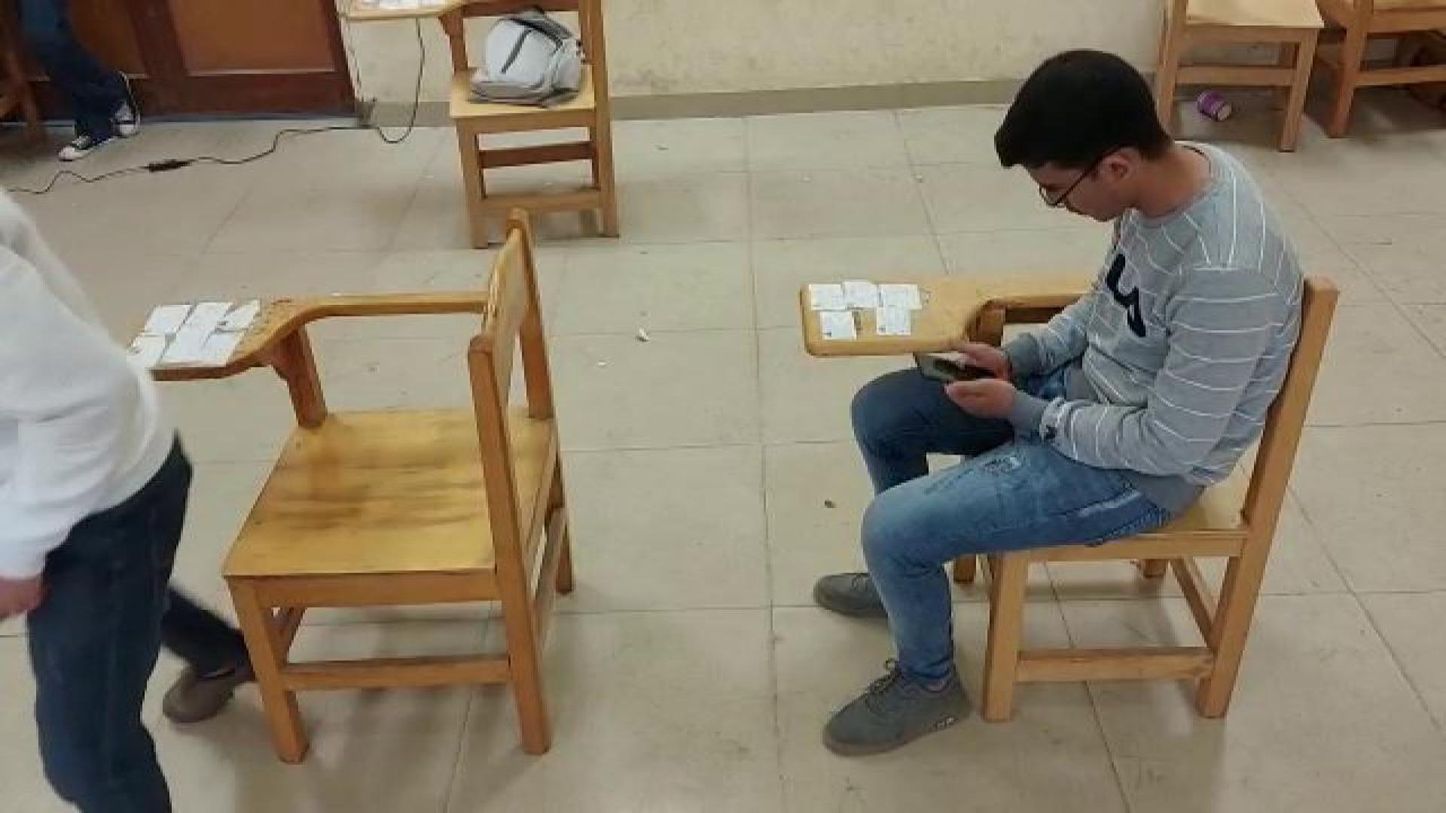phone: (908, 346, 999, 391)
